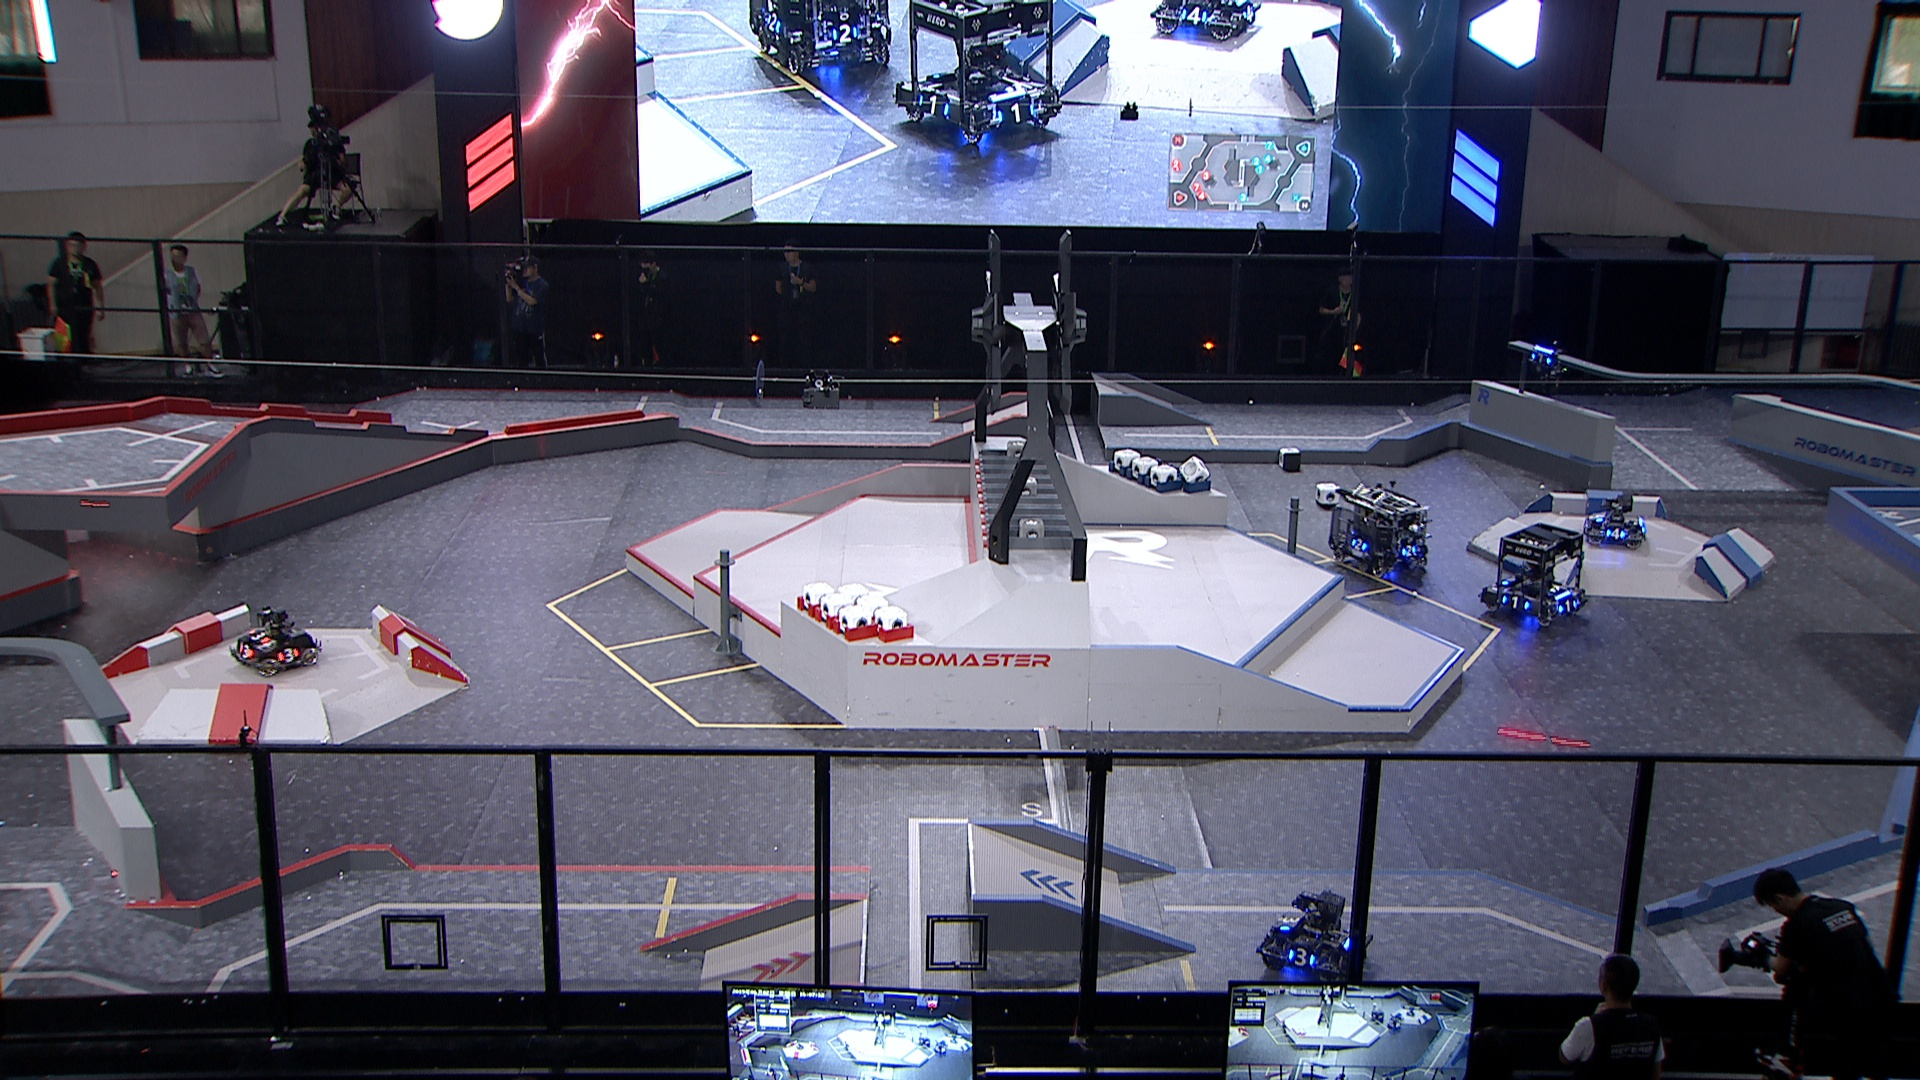armor: (1287, 945, 1317, 971), (1501, 595, 1531, 612), (1276, 913, 1300, 932), (276, 646, 301, 665), (1557, 597, 1578, 616), (247, 626, 269, 644), (1528, 352, 1552, 367), (235, 641, 253, 659), (1348, 537, 1367, 553), (1604, 527, 1627, 541), (1399, 545, 1418, 559)
car: (1254, 887, 1373, 986), (1480, 524, 1590, 626), (1325, 479, 1429, 578), (224, 607, 324, 675), (1580, 491, 1648, 551)
ignore: (746, 0, 891, 73), (1150, 0, 1261, 40)
watcher: (1528, 342, 1569, 386)
